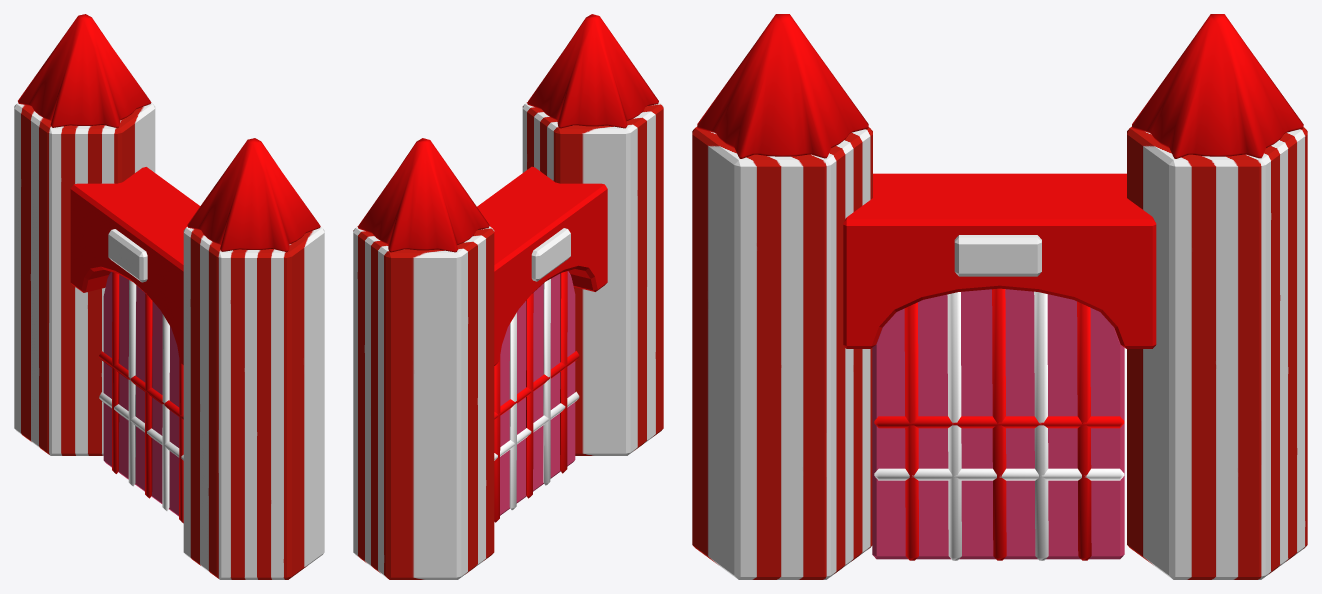
Rendered from door.obj.
3 renders of one model, left to right at view 1: azimuth 30°, elevation 25°; view 2: azimuth 150°, elevation 25°; view 3: azimuth 270°, elevation 25°, orthographic. The views are drawn at different scales.
Visible parts, largest first — view 1: Circle.001_Material, Circle.001_red, Circle.001_lb, Circle.001_white; view 2: Circle.001_Material, Circle.001_red, Circle.001_lb, Circle.001_white; view 3: Circle.001_Material, Circle.001_red, Circle.001_lb, Circle.001_white.
Boxes of the visible parts, x1,y1,x2,y2 form: Circle.001_Material: [14, 103, 324, 579]; Circle.001_red: [18, 14, 320, 523]; Circle.001_lb: [103, 272, 179, 516]; Circle.001_white: [99, 229, 183, 510]; Circle.001_Material: [353, 102, 663, 579]; Circle.001_red: [358, 14, 658, 522]; Circle.001_lb: [500, 271, 575, 515]; Circle.001_white: [494, 228, 579, 510]; Circle.001_Material: [692, 126, 1307, 579]; Circle.001_red: [697, 14, 1303, 560]; Circle.001_lb: [872, 289, 1124, 559]; Circle.001_white: [874, 235, 1124, 560].
Bounding box in the file's own units: 2.24 × 8.23 × 8.61.
Materials: 4 (4 with a texture image).
